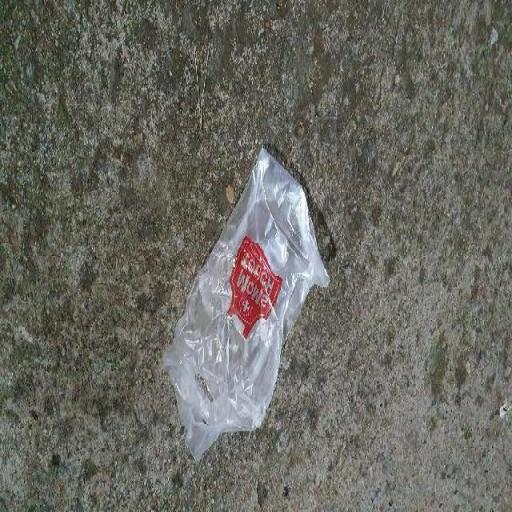plastic-bag: (158, 142, 332, 461)
